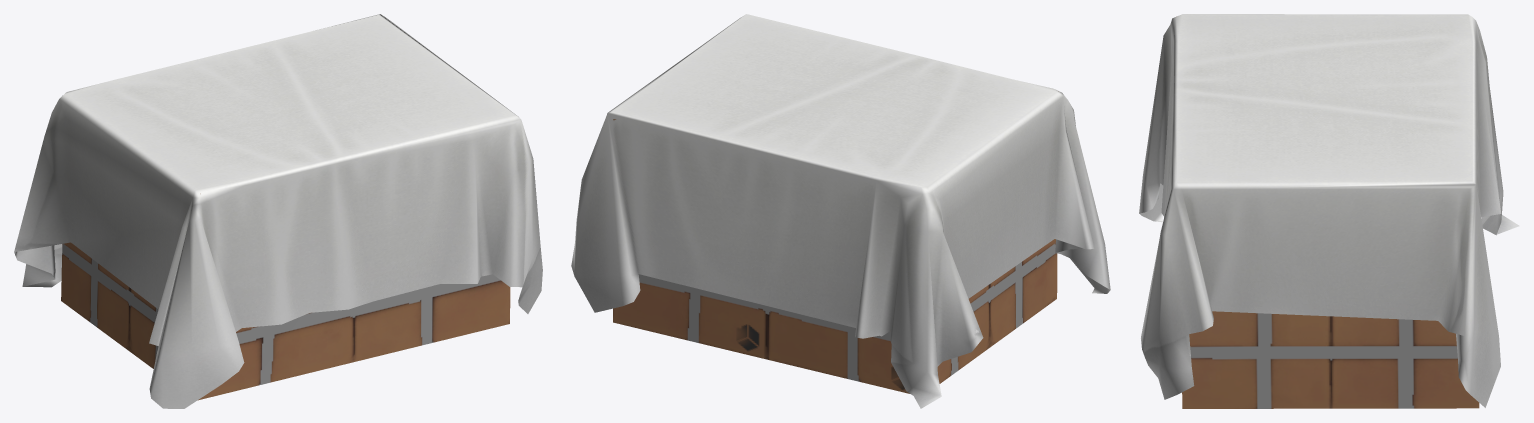
Rendered from Pfb_Box_GRP__14.fbx.
The picture shows the model from 3 angles, left to right: view 1: azimuth 30°, elevation 25°; view 2: azimuth 150°, elevation 25°; view 3: azimuth 270°, elevation 25°; orthographic projection. The views are drawn at different scales.
Parts seen in each view (by area): view 1: MAT_Canvas_01_White, Mat_BoxGroup_01_Gray; view 2: MAT_Canvas_01_White, Mat_BoxGroup_01_Gray; view 3: MAT_Canvas_01_White, Mat_BoxGroup_01_Gray.
Part boxes in pixels (box(x1,y1,x2,y2)): MAT_Canvas_01_White: box(14, 14, 542, 408); Mat_BoxGroup_01_Gray: box(61, 193, 510, 400); MAT_Canvas_01_White: box(571, 14, 1110, 408); Mat_BoxGroup_01_Gray: box(613, 91, 1058, 393); MAT_Canvas_01_White: box(1139, 14, 1519, 407); Mat_BoxGroup_01_Gray: box(1176, 16, 1479, 408).
Bounding box in the file's own units: 2.45 × 1.19 × 1.79.
2 materials, 2 textured.
